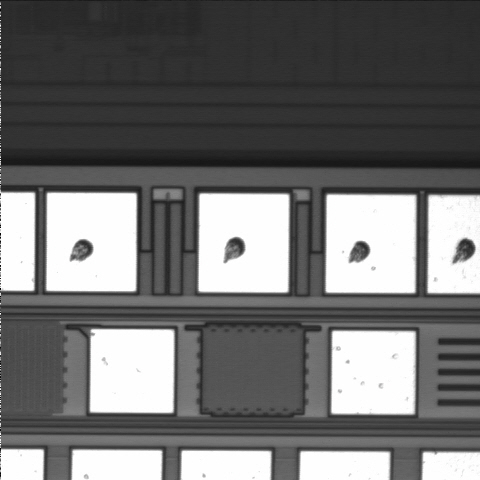pad: (46, 193, 136, 291), (199, 194, 289, 292), (326, 195, 416, 293), (90, 329, 174, 413), (331, 331, 415, 414)
